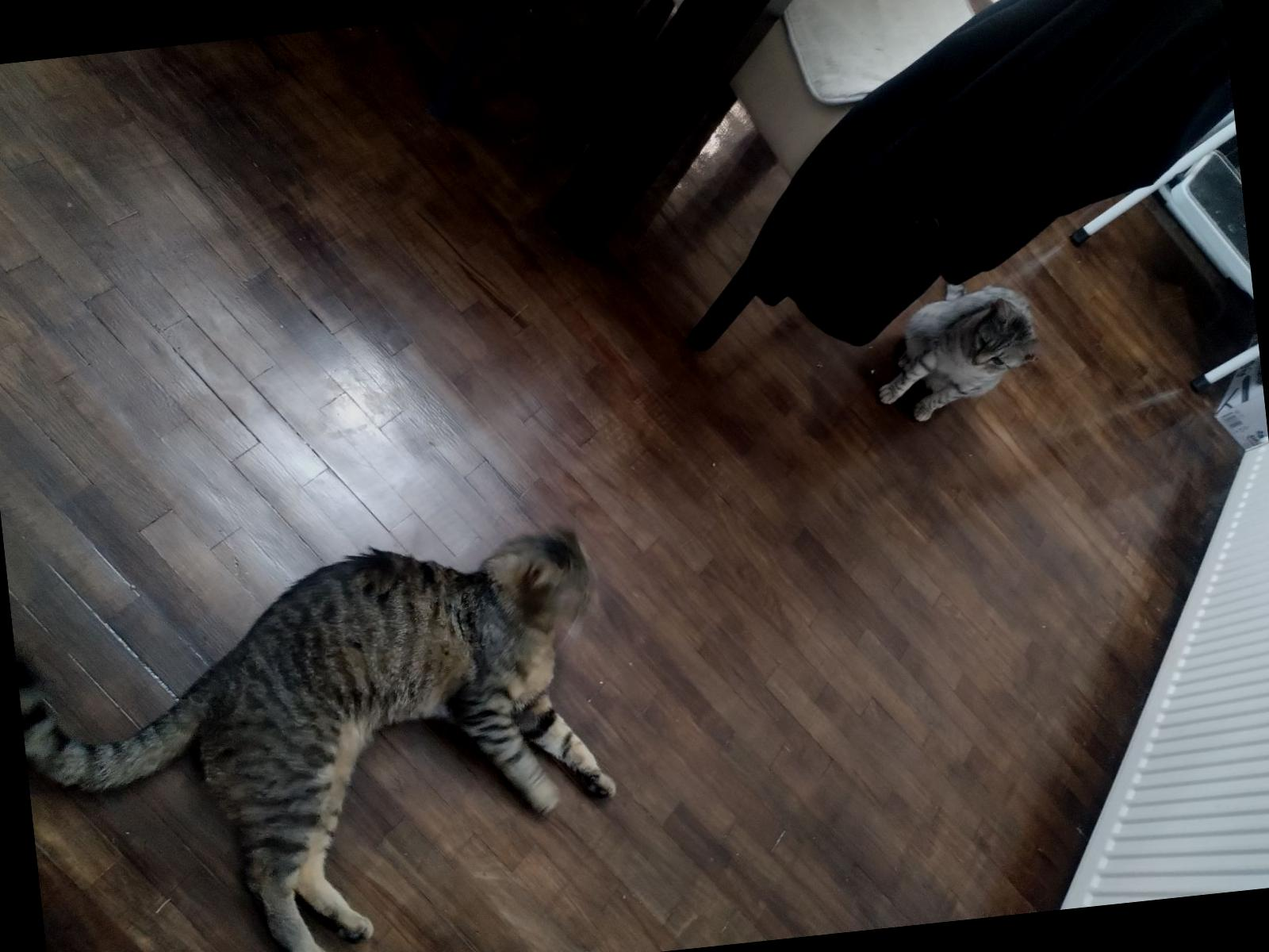macka: (9, 528, 631, 952), (863, 275, 1047, 435)
